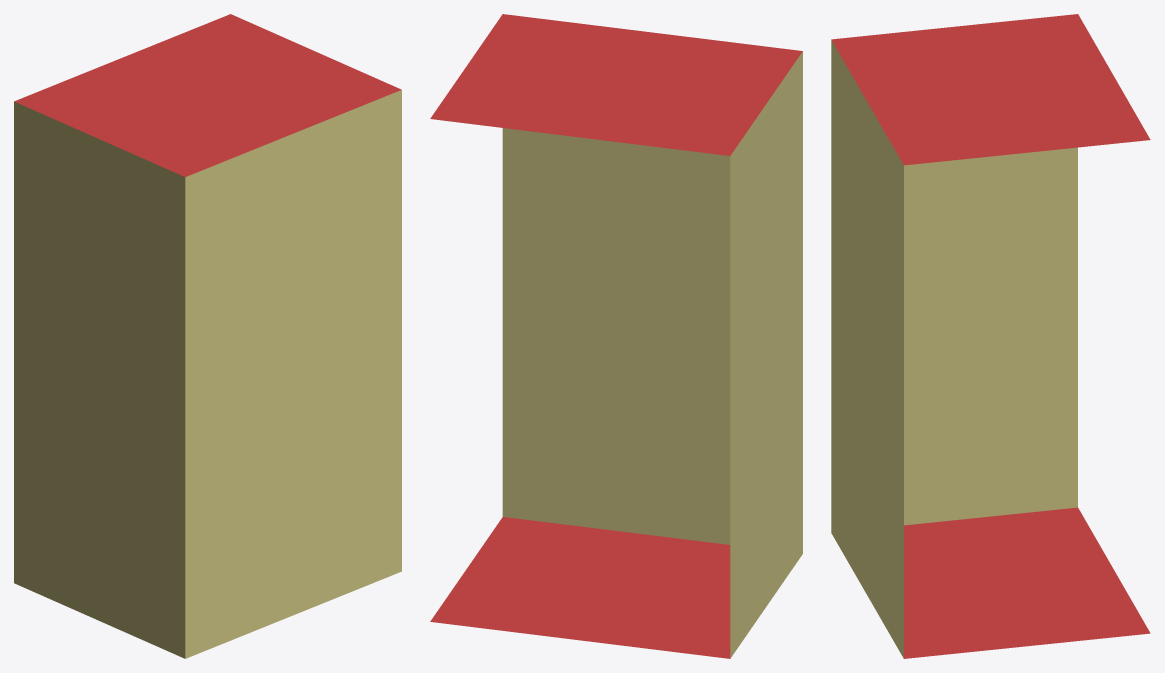
3 renders of one model, left to right at view 1: azimuth 30°, elevation 25°; view 2: azimuth 150°, elevation 25°; view 3: azimuth 270°, elevation 25°, orthographic. The views are drawn at different scales.
Bounding box in the file's own units: 5.81 × 5.18 × 8.83.
